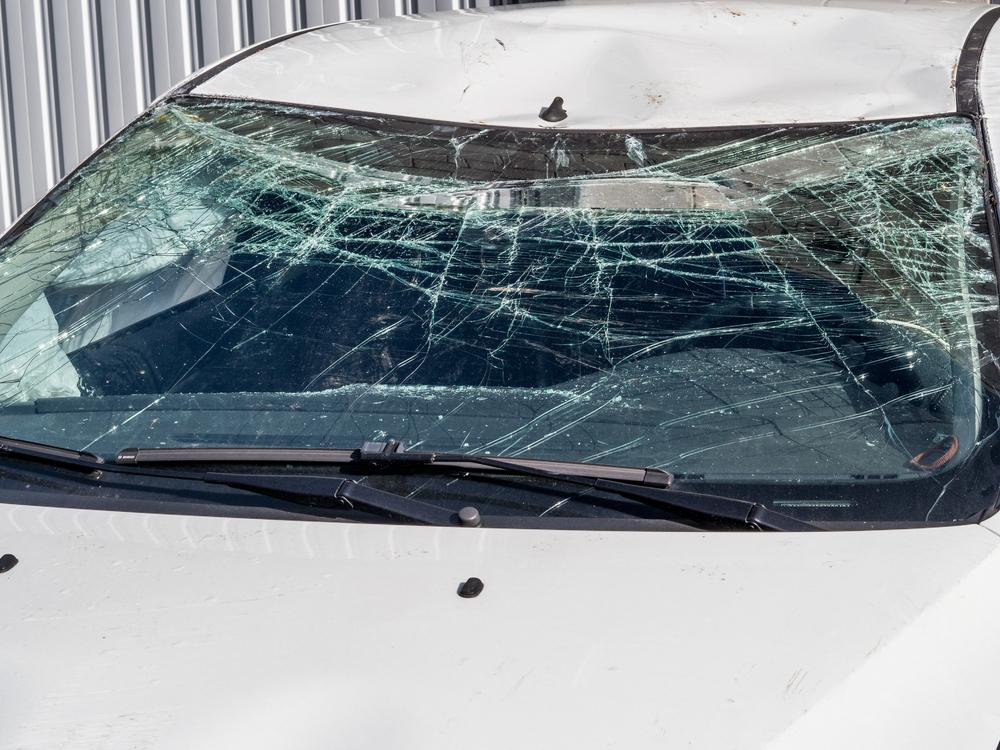dent: (487, 0, 958, 128)
glass shatter: (0, 94, 1000, 523)
